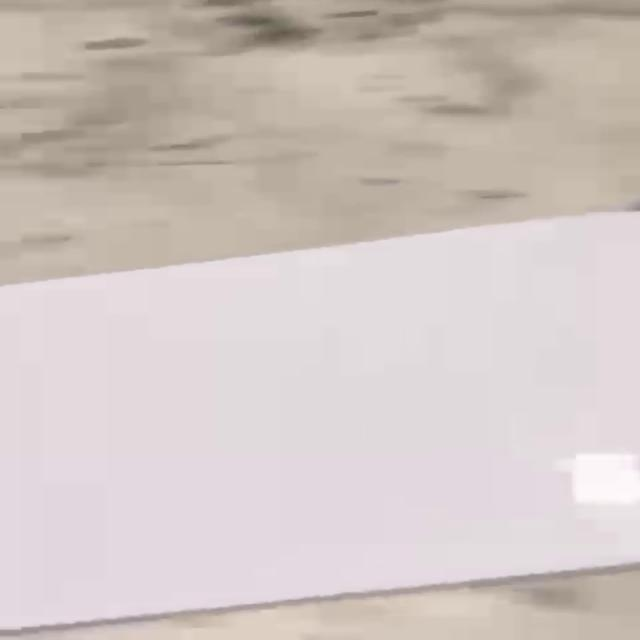road: (1, 213, 636, 628)
